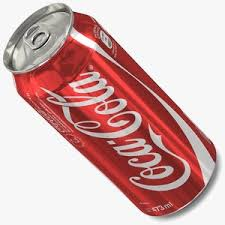can: (2, 0, 218, 219)
